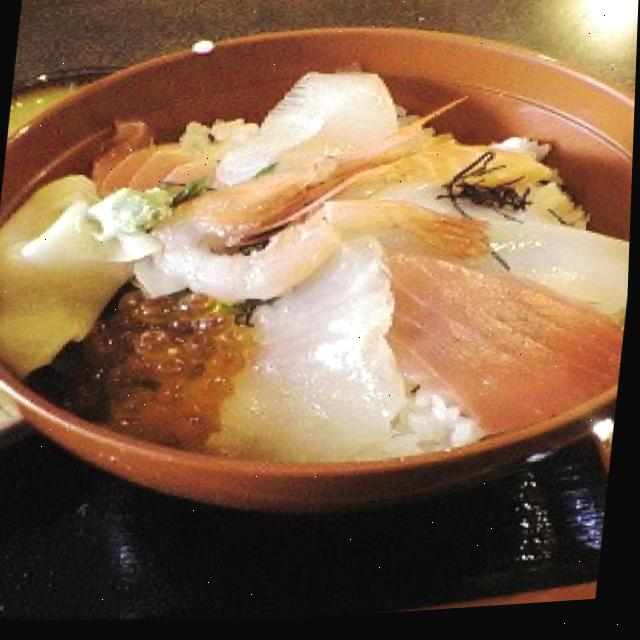刺身生食: (0, 0, 640, 568)
